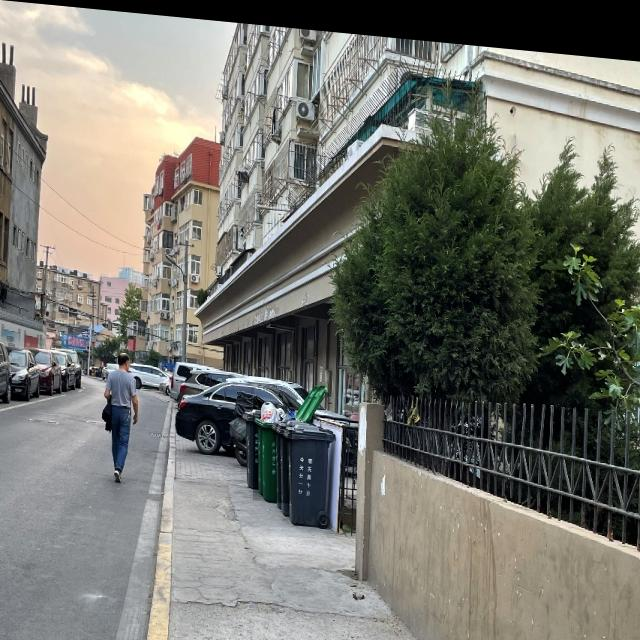garbage_bin: (283, 415, 335, 521), (241, 401, 261, 484)
overflow: (253, 394, 292, 498)
